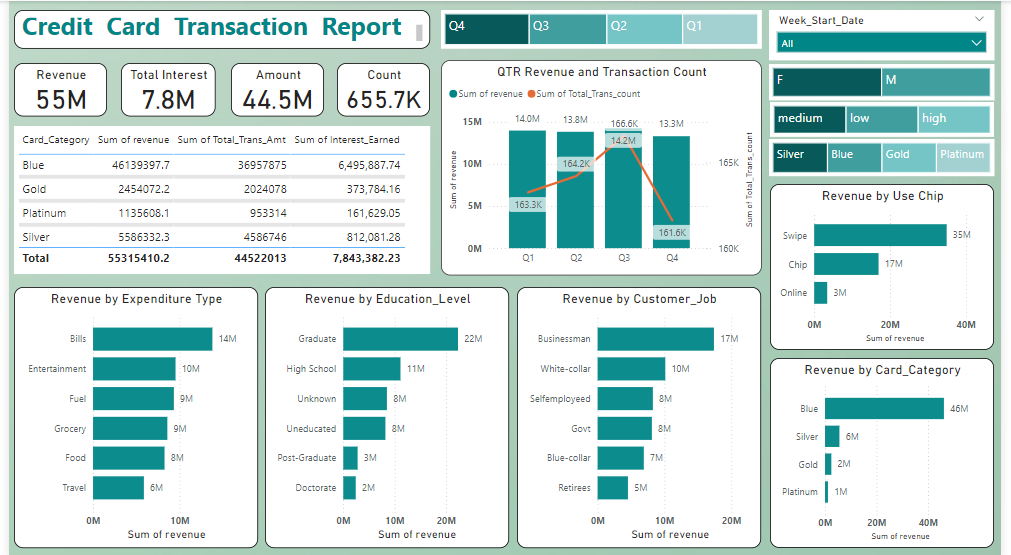

What the dashboard file says about the page in this screenshot:
{"tool":"powerbi","page":{"name":"cc_transaction","canvas":[1280,720],"ordinal":0},"visuals":[{"type":"textbox","box":[6.7,11.3,537.2,49.6],"z":0},{"type":"lineStackedColumnComboChart","title":"QTR Revenue and Transaction Count","fields":{"Category":["credit_card (2).Qtr"],"Y":["Sum(credit_card (2).revenue)"],"Y2":["Sum(credit_card (2).Total_Trans_Vol)"]},"box":[557,76.5,413.9,277.8],"z":1000},{"type":"barChart","title":"Revenue by Expenditure Type","fields":{"Y":["Sum(credit_card (2).revenue)"],"Category":["credit_card (2).Exp Type"]},"box":[6.7,368.5,315,337.3],"z":2000},{"type":"barChart","title":"Revenue by Education_Level","fields":{"Category":["customer.Education_Level"],"Y":["Sum(credit_card (2).revenue)"]},"box":[329.9,368.5,314.6,337.3],"z":3000},{"type":"barChart","title":"Revenue by Customer_Job","fields":{"Category":["customer.Customer_Job"],"Y":["Sum(credit_card (2).revenue)"]},"box":[655.9,368.5,314.6,337.3],"z":4000},{"type":"barChart","title":"Revenue by Card_Category","fields":{"Category":["credit_card (2).Card_Category"],"Y":["Sum(credit_card (2).revenue)"]},"box":[981.9,460.6,289.1,245.2],"z":5000},{"type":"barChart","title":"Revenue by Use Chip","fields":{"Category":["credit_card (2).Use Chip"],"Y":["Sum(credit_card (2).revenue)"]},"box":[981.9,236.7,289.1,214],"z":6000},{"type":"tableEx","fields":{"Values":["credit_card (2).Card_Category","Sum(credit_card (2).revenue)","Sum(credit_card (2).Total_Trans_Amt)","Sum(credit_card (2).Interest_Earned)"]},"box":[7.1,161.1,537.2,191.3],"z":7000},{"type":"card","title":"Revenue","fields":{"Values":["Sum(credit_card (2).revenue)"]},"box":[7.1,79.5,120.5,69.4],"z":8000},{"type":"card","title":"Amount","fields":{"Values":["Sum(credit_card (2).Total_Trans_Amt)"]},"box":[286.3,79.5,120.5,69.4],"z":9000},{"type":"card","title":"Total Interest","fields":{"Values":["Sum(credit_card (2).Interest_Earned)"]},"box":[144.6,79.5,121.9,69.4],"z":10000},{"type":"card","title":"Count","fields":{"Values":["Sum(credit_card (2).Total_Trans_Vol)"]},"box":[423.8,79.5,120.5,69.4],"z":11000},{"type":"slicer","fields":{"Values":["credit_card (2).Week_Start_Date"]},"box":[980.4,11.3,290.6,65.2],"z":12000},{"type":"treemap","fields":{"Group":["credit_card (2).Qtr"],"Values":["Avg(credit_card (2).Client_Num)"]},"box":[557,11.3,413.9,49.6],"z":13000},{"type":"treemap","fields":{"Group":["customer.Gender"],"Values":["Avg(credit_card (2).Client_Num)"]},"box":[980.4,80.8,290.6,46.8],"z":14000},{"type":"treemap","fields":{"Group":["credit_card (2).Card_Category"],"Values":["Avg(credit_card (2).Client_Num)"]},"box":[980.4,178.6,290.6,48.2],"z":15000},{"type":"treemap","fields":{"Group":["customer.income_group"],"Values":["Avg(credit_card (2).Client_Num)"]},"box":[981.9,130.4,289.1,45.4],"z":16000}]}

Visuals, with their boxes in screenshot pixels (x1, y1, x2, y2), scaled from the page's 1280x720 canvas onto the 1011x555 screenshot:
textbox: (x1=5, y1=9, x2=430, y2=47)
"QTR Revenue and Transaction Count" lineStackedColumnComboChart: (x1=440, y1=59, x2=767, y2=273)
"Revenue by Expenditure Type" barChart: (x1=5, y1=284, x2=254, y2=544)
"Revenue by Education_Level" barChart: (x1=261, y1=284, x2=509, y2=544)
"Revenue by Customer_Job" barChart: (x1=518, y1=284, x2=767, y2=544)
"Revenue by Card_Category" barChart: (x1=776, y1=355, x2=1004, y2=544)
"Revenue by Use Chip" barChart: (x1=776, y1=182, x2=1004, y2=347)
tableEx - credit_card (2).Card_Category x Sum(credit_card (2).revenue): (x1=6, y1=124, x2=430, y2=272)
"Revenue" card: (x1=6, y1=61, x2=101, y2=115)
"Amount" card: (x1=226, y1=61, x2=321, y2=115)
"Total Interest" card: (x1=114, y1=61, x2=210, y2=115)
"Count" card: (x1=335, y1=61, x2=430, y2=115)
slicer - credit_card (2).Week_Start_Date: (x1=774, y1=9, x2=1004, y2=59)
treemap - credit_card (2).Qtr x Avg(credit_card (2).Client_Num): (x1=440, y1=9, x2=767, y2=47)
treemap - customer.Gender x Avg(credit_card (2).Client_Num): (x1=774, y1=62, x2=1004, y2=98)
treemap - credit_card (2).Card_Category x Avg(credit_card (2).Client_Num): (x1=774, y1=138, x2=1004, y2=175)
treemap - customer.income_group x Avg(credit_card (2).Client_Num): (x1=776, y1=101, x2=1004, y2=136)
